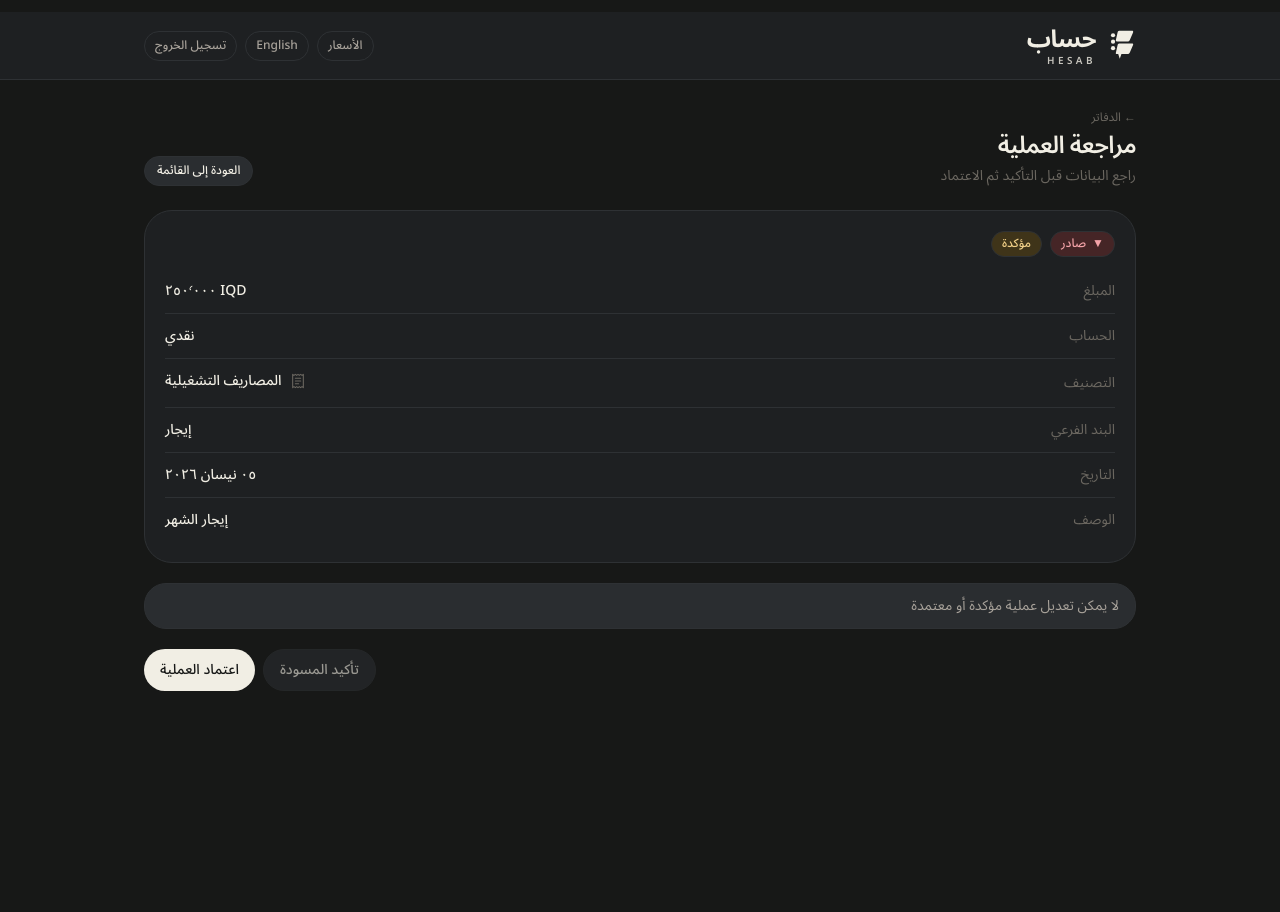
TransactionReviewView › posts a confirmed draft and shows the resulting entry reference
The image size is (1280, 912).
Click the button "اعتماد العملية": (199,670) [144,650,255,692]
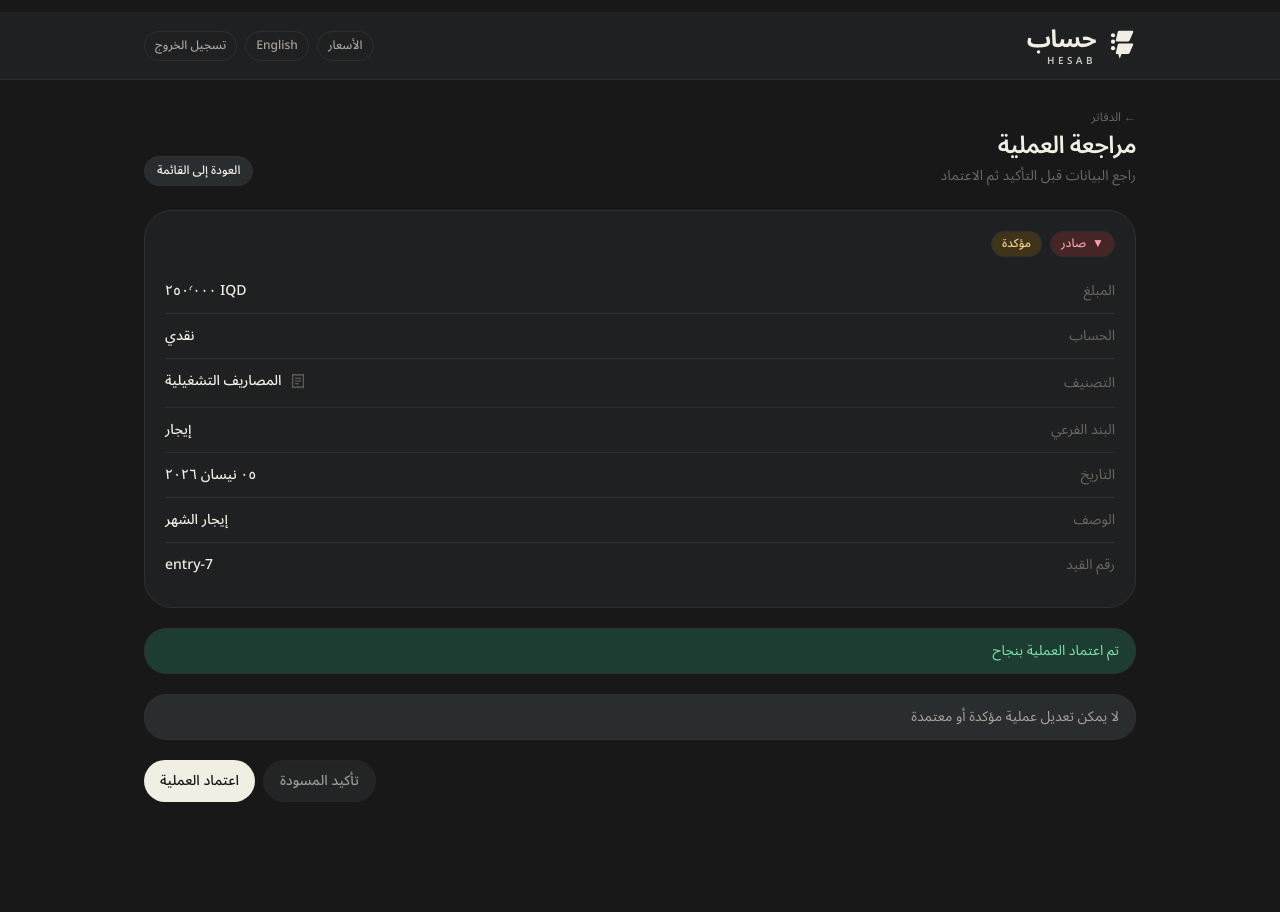
Expected: the text "تم اعتماد العملية بنجاح" is shown, [144,628,1136,674]
Expected: the text "رقم القيد" is shown, [1066,556,1115,576]
